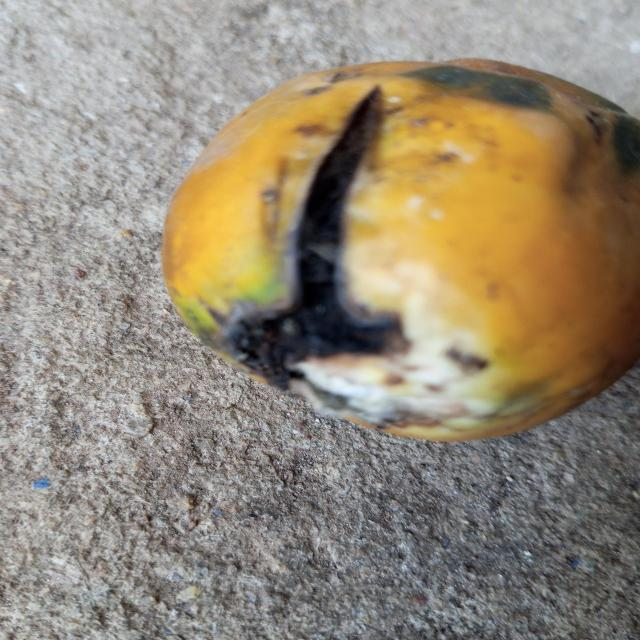damaged: (161, 59, 640, 445)
